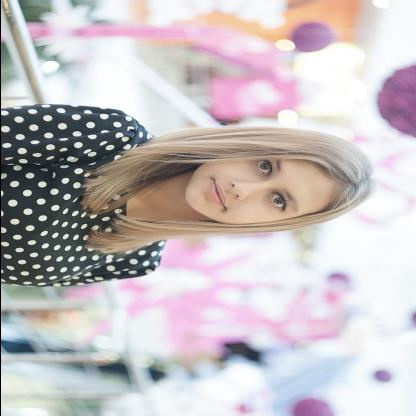Eye: (250, 156, 281, 178), (264, 190, 292, 214)
Mouth: (206, 175, 230, 214)
Nose: (228, 178, 268, 200)
